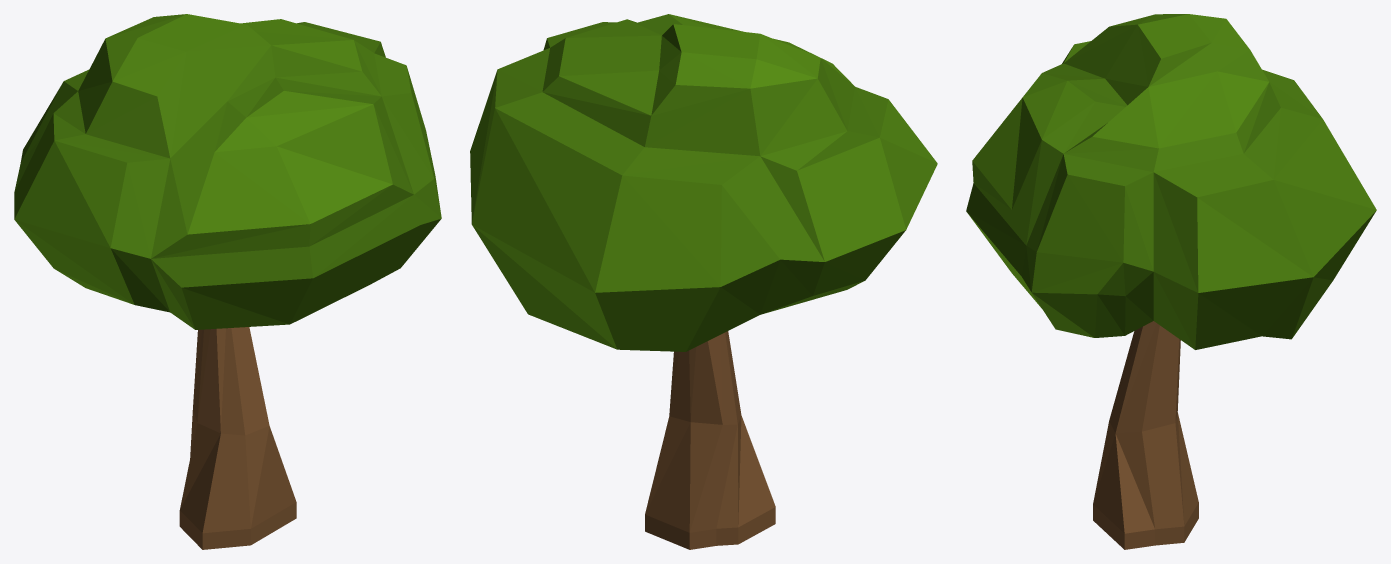
The model's file is Tree_03.FBX.
3 views of the same model, side by side, from view 1: azimuth 30°, elevation 25°; view 2: azimuth 150°, elevation 25°; view 3: azimuth 270°, elevation 25° (orthographic). The views are drawn at different scales.
Parts seen in each view (by area): view 1: Tree_03; view 2: Tree_03; view 3: Tree_03.
Boxes of the visible parts, <box> form: Tree_03: <box>14,14,441,549</box>; Tree_03: <box>470,14,937,549</box>; Tree_03: <box>966,14,1376,549</box>.
Size of the model in its own units: 2.57 by 2.94 by 2.3.
